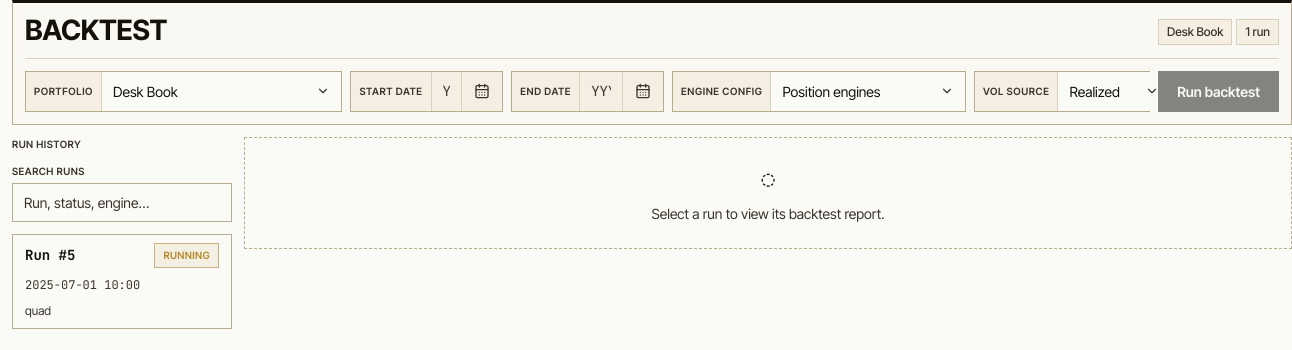
BacktestLive › shows "Running…" status message for a running run
Click the text "Run #5" at (50, 255), box left=25, top=245, right=75, bottom=266
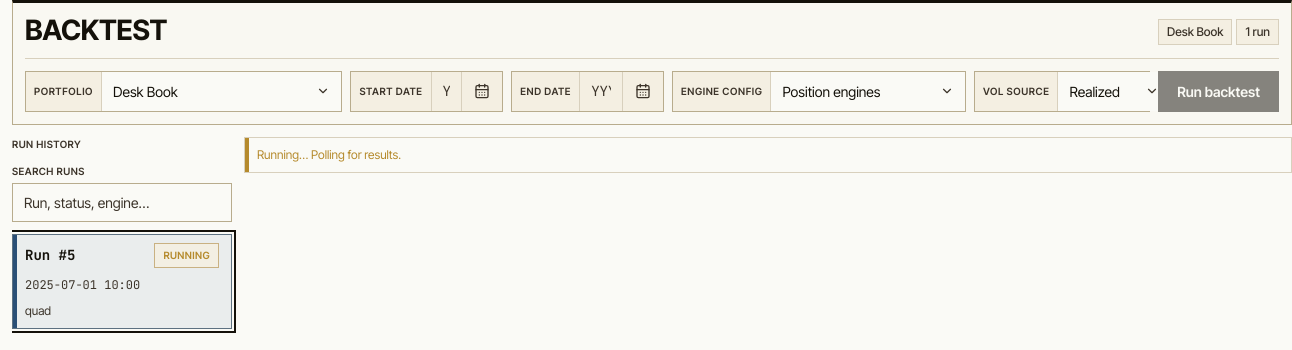
Expected: the text "Running… Polling for results." is shown, left=244, top=137, right=1291, bottom=173
